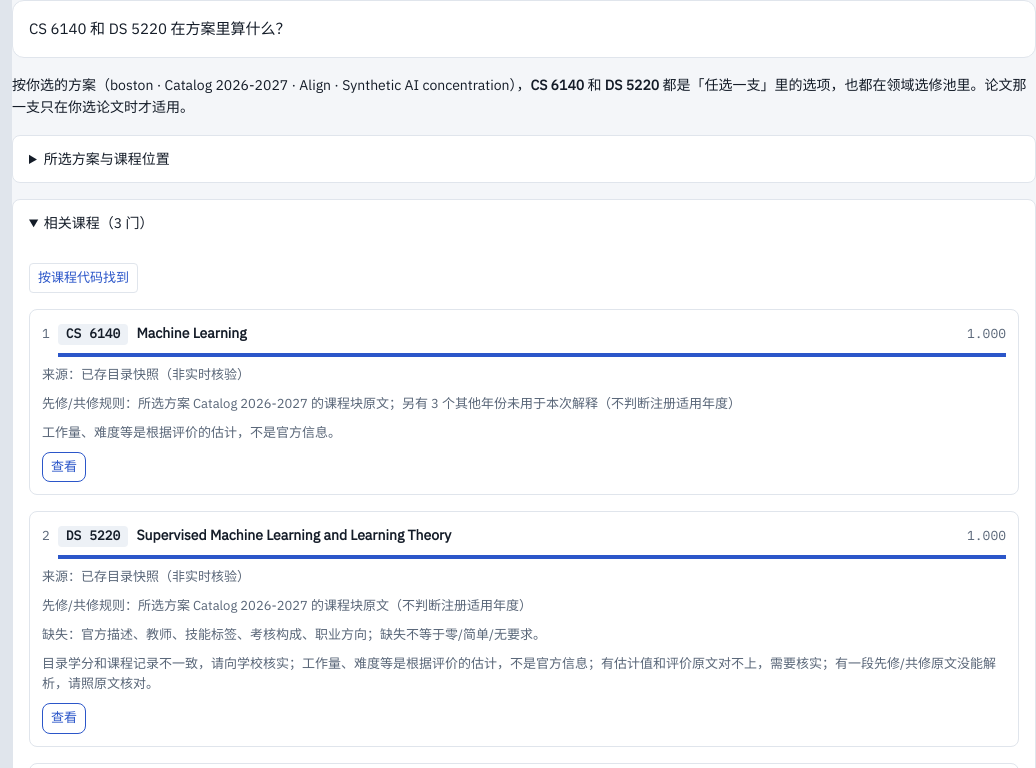
Scenario: plan placement labels use the last course record for duplicate IDs like the Python mapping
This screenshot has width=1036, height=768.
Click the heading "所选方案与课程位置" at (107, 159), box [44,150,170,168]
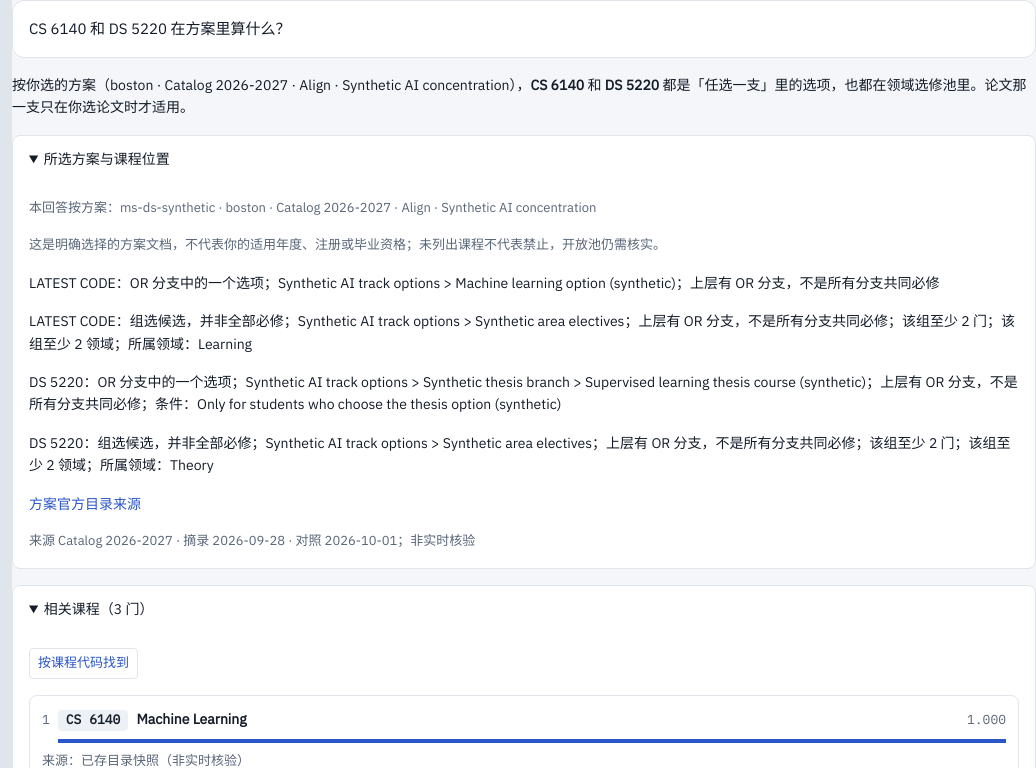
Now the text "LATEST CODE：" is shown, box [29,274,940,292]
